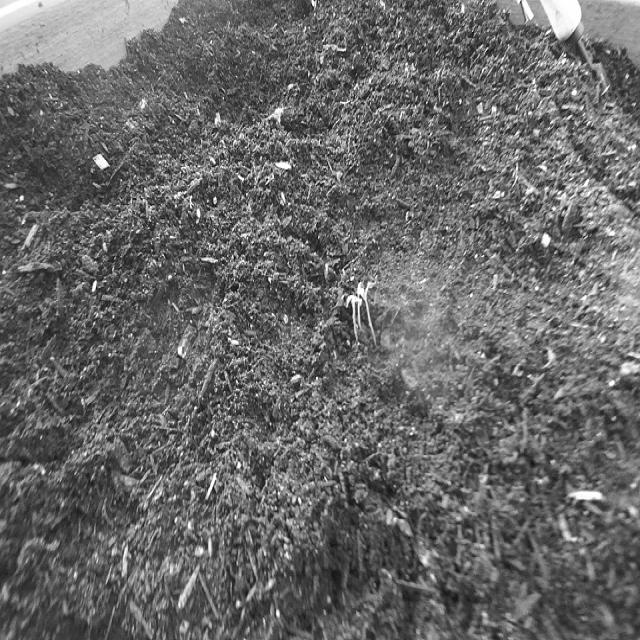Unhealthy: (344, 274, 386, 356)
